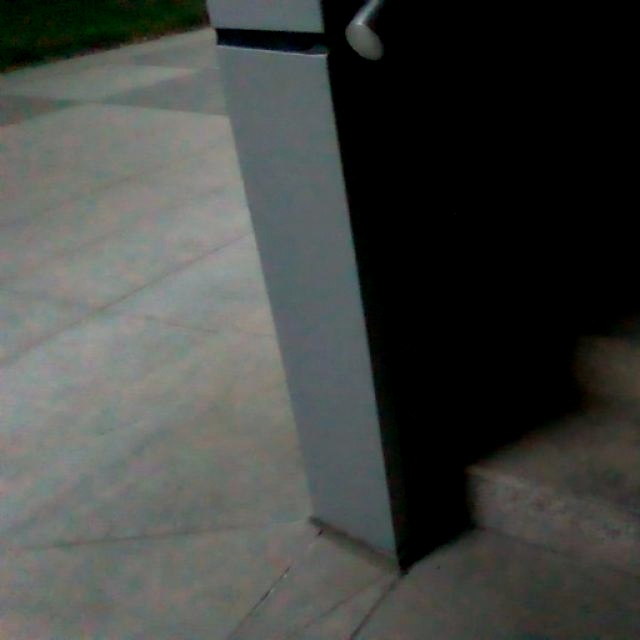stair: (463, 85, 640, 557)
